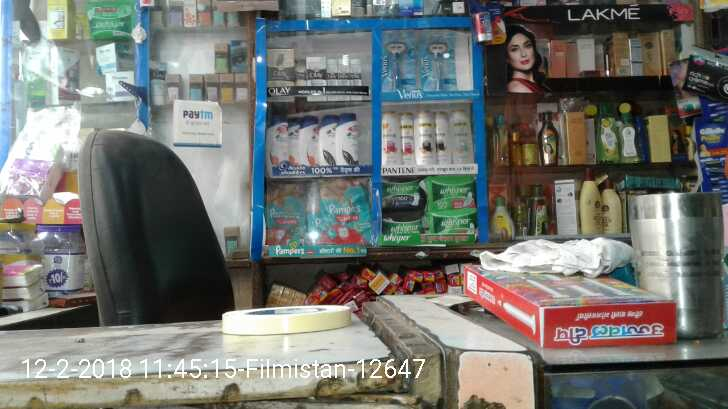gillete: (694, 121, 728, 188)
venus: (419, 34, 454, 90), (383, 38, 419, 90)
